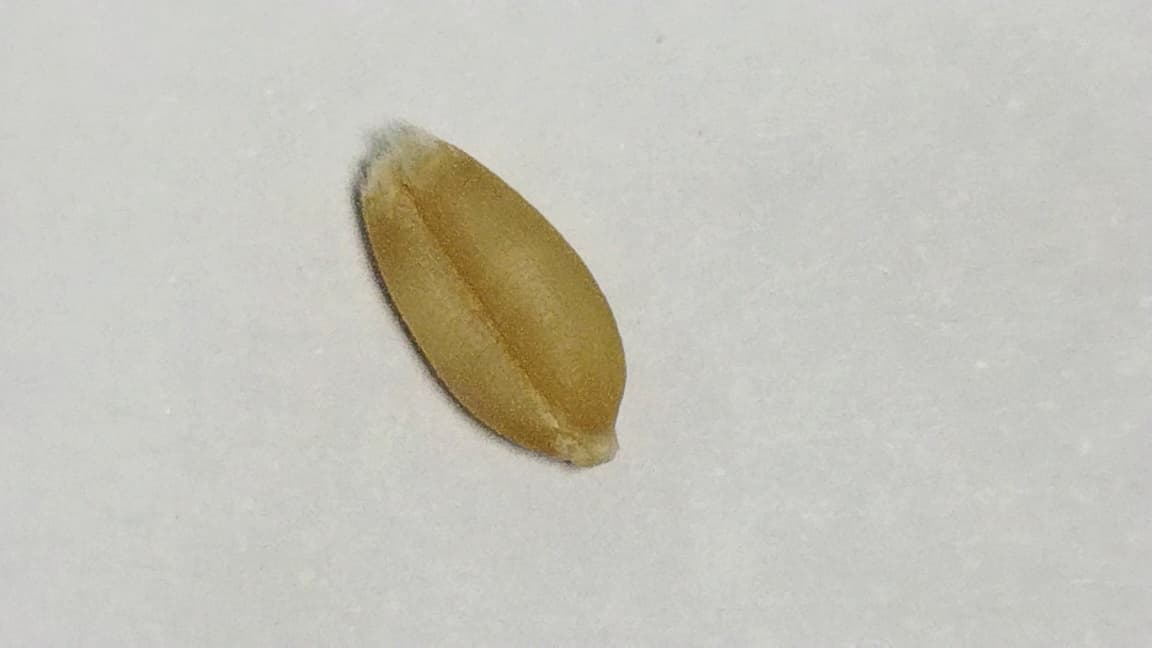healthy: (360, 129, 623, 463)
